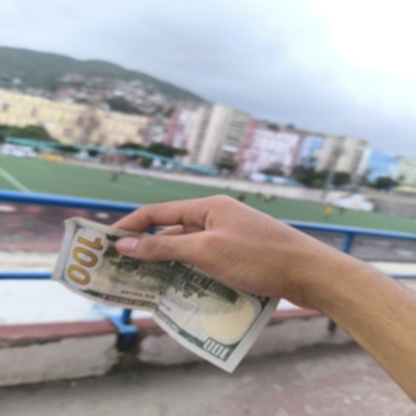one_hundred-back: (51, 213, 287, 377)
